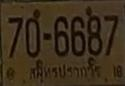0: (25, 16, 40, 57)
6: (53, 16, 68, 56), (70, 16, 84, 56)
7: (103, 14, 118, 54), (8, 16, 22, 56)
8: (87, 15, 102, 55)
SPK: (27, 61, 103, 80)
